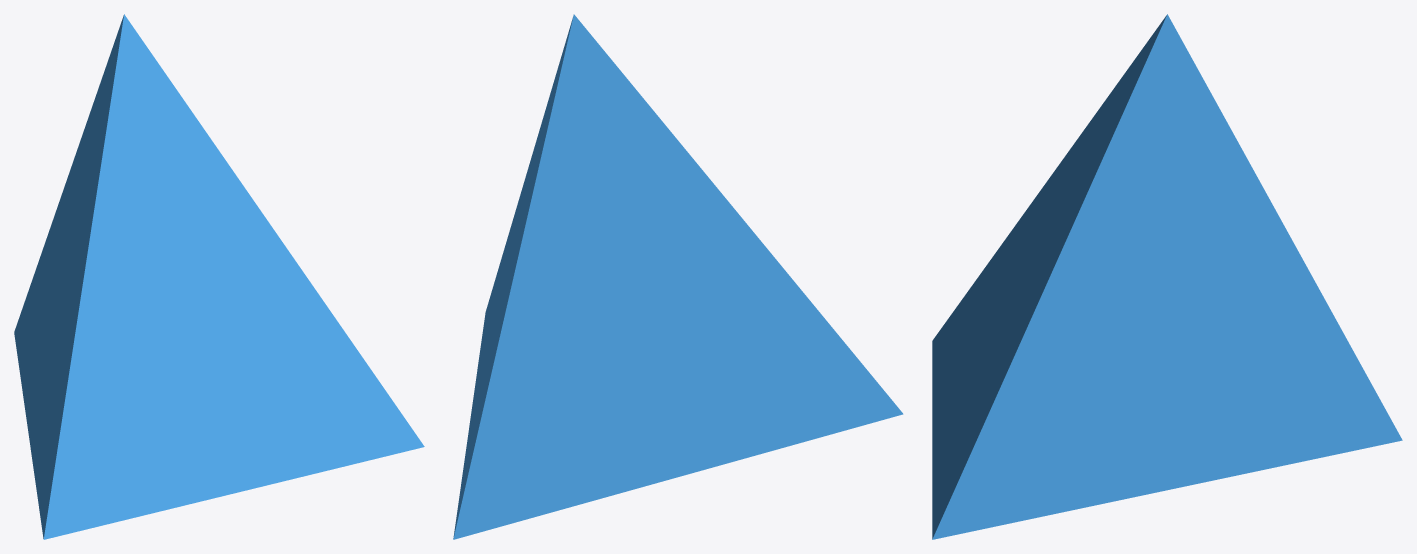
File: physics_orb.gltf
The picture shows the model from 3 angles, left to right: view 1: azimuth 30°, elevation 25°; view 2: azimuth 150°, elevation 25°; view 3: azimuth 270°, elevation 25°; orthographic projection. The views are drawn at different scales.
Parts seen in each view (by area): view 1: FacetedOrb; view 2: FacetedOrb; view 3: FacetedOrb.
Boxes of the visible parts, left/top/right/bottom form: FacetedOrb: left=14, top=14, right=424, bottom=539; FacetedOrb: left=453, top=14, right=903, bottom=539; FacetedOrb: left=932, top=14, right=1402, bottom=539.
Bounding box in the file's own units: 1.2 × 1.2 × 1.2.
